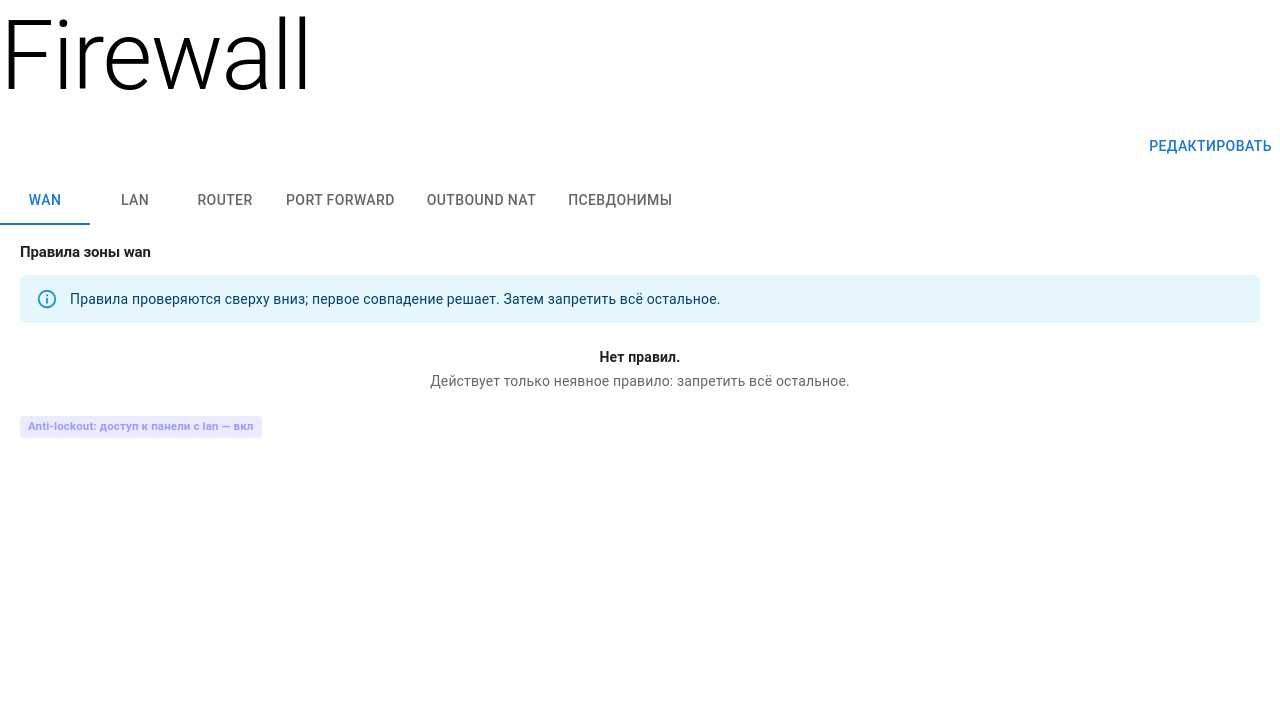
Test: removes a newly added Firewall rule by its name
The image size is (1280, 720).
Click the button "Редактировать".
click(1211, 146)  # box [1141,128,1279,164]
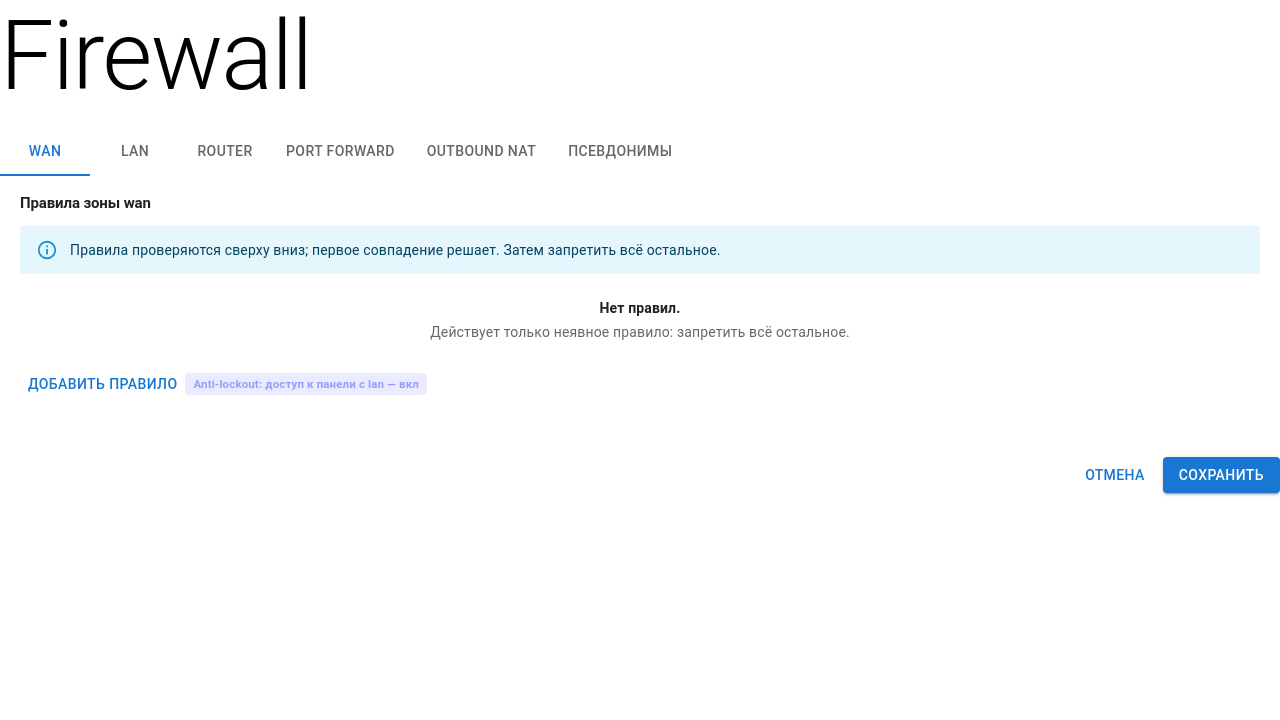
Click the button "Добавить правило".
click(103, 384)  # box [20,366,186,403]
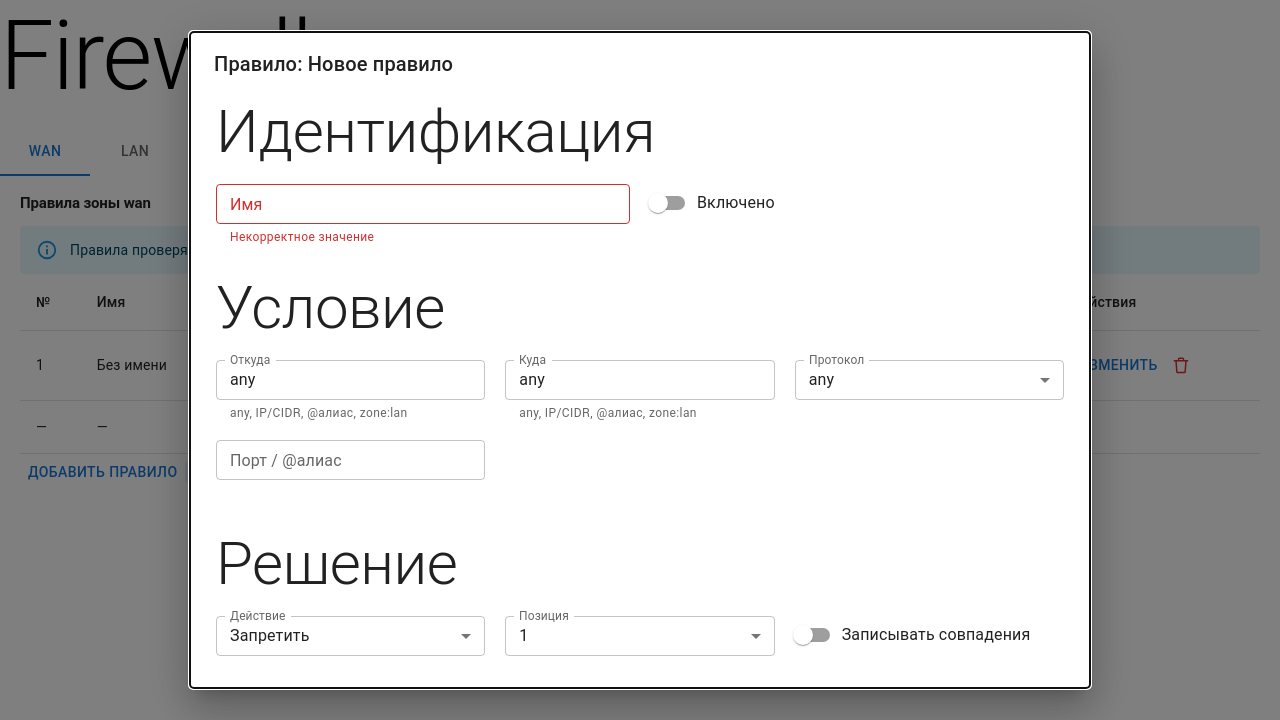
Type "first" into the field labelled "Имя".
click(423, 204); type("first")  # box [216,184,630,224]
(page scrolled)
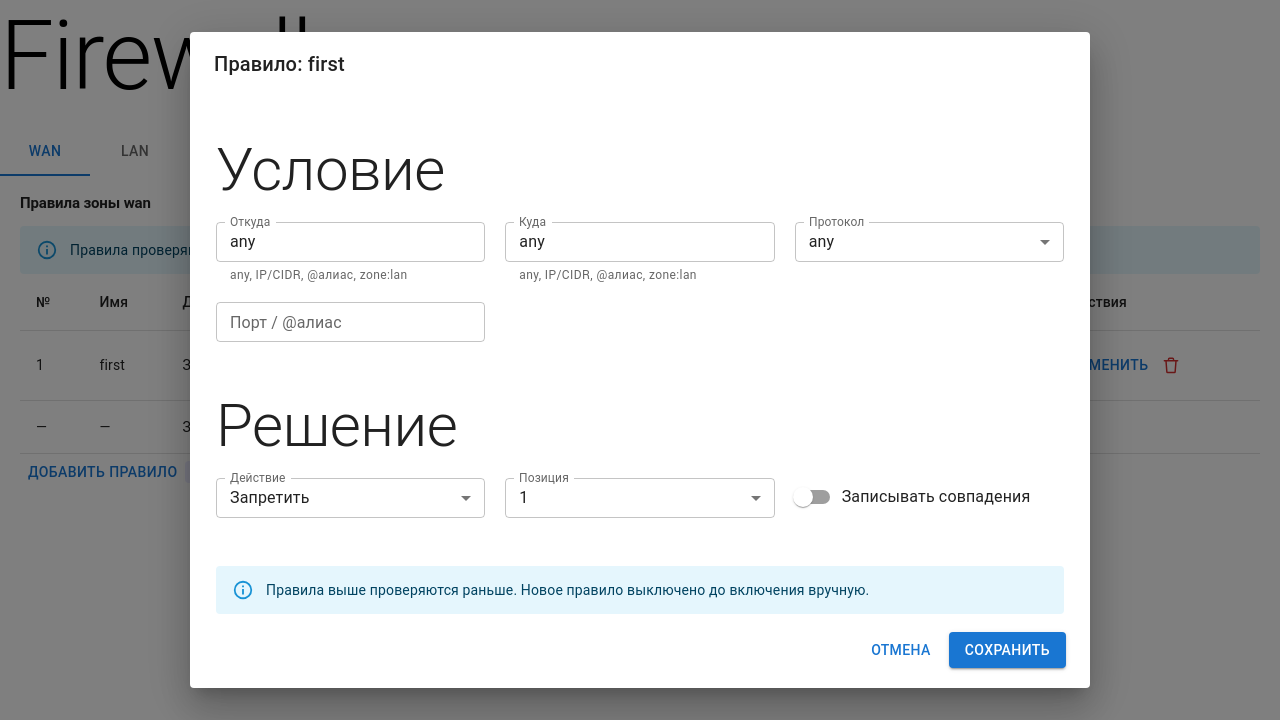
Click the button "Отмена".
click(901, 650)  # box [863,632,939,668]
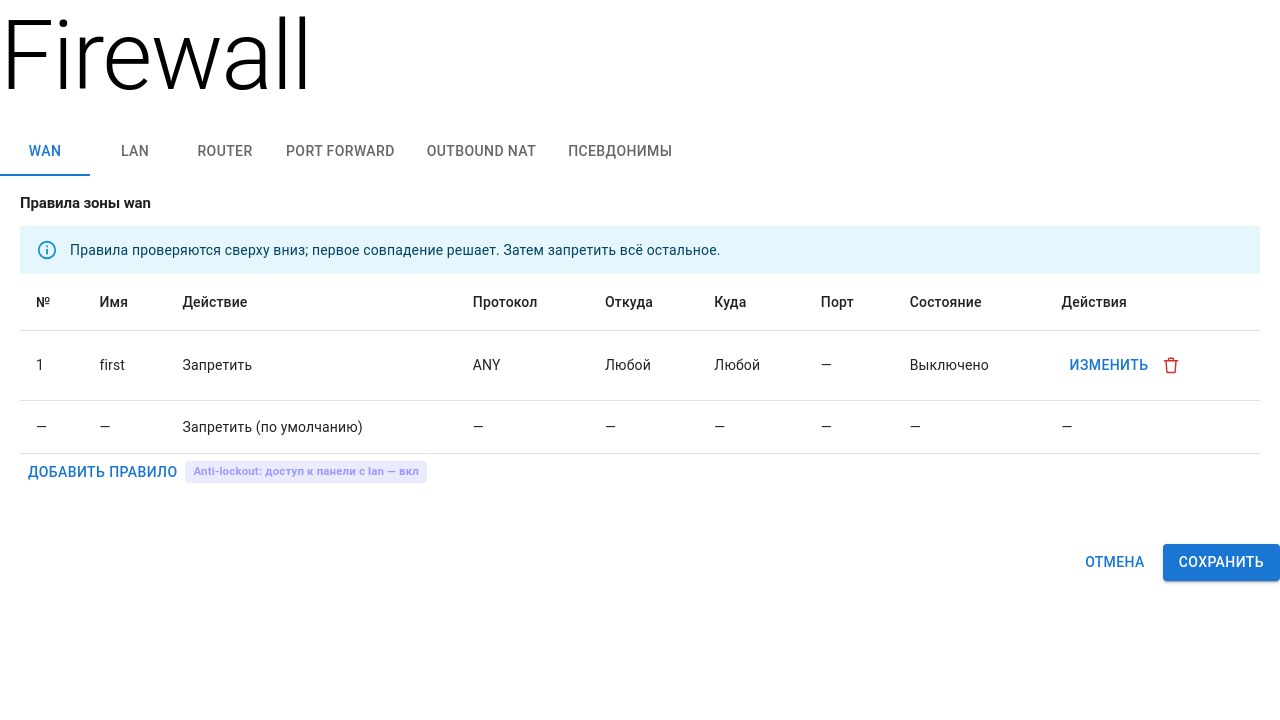
Check: the dialog is gone
Click the button named "Удалить правило first".
click(1171, 365)  # box [1156,350,1186,380]
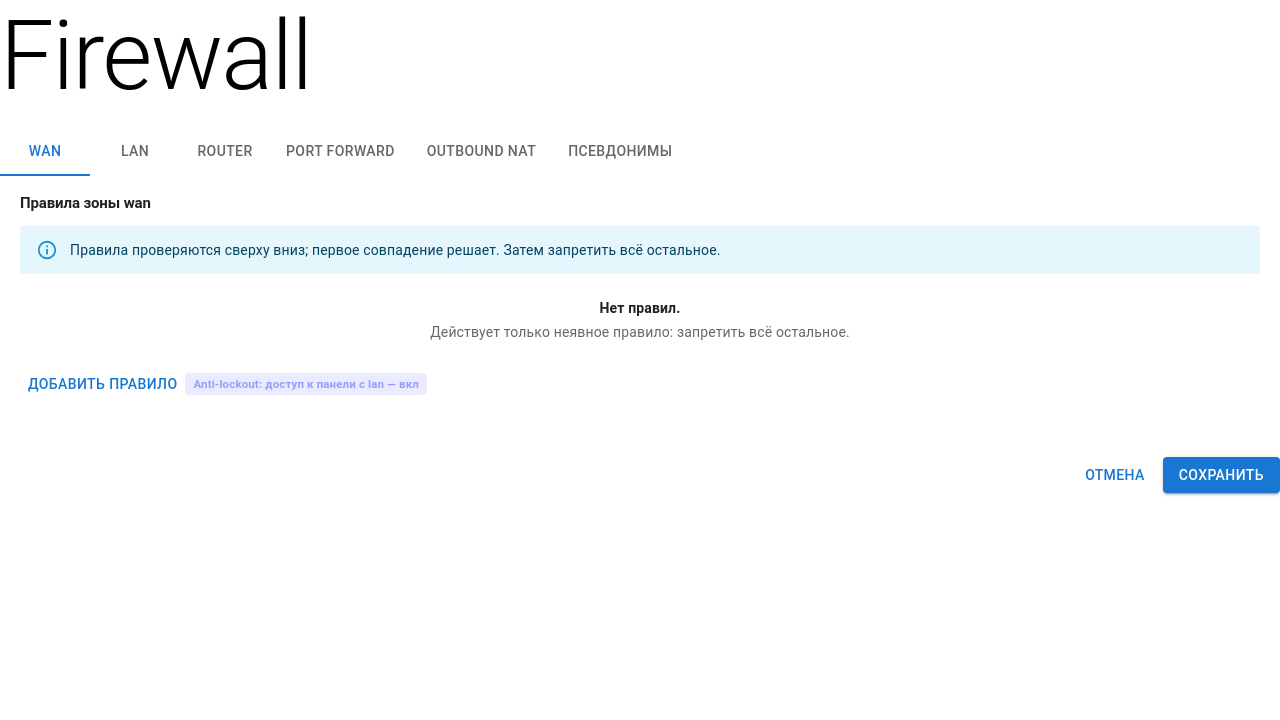
Check: the text "Нет правил." is shown, box [600,300,680,316]
